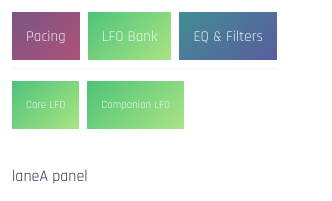
it: SectionTabs › the sub-tab row › leaving the section unmounts its sub row with it
Press the mouse on the tab "Pacing" at (46, 36), box x1=12 y1=12 x2=80 y2=60
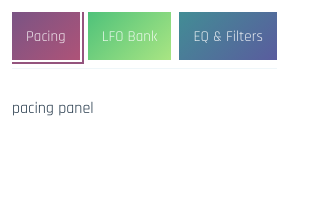
Expected: the text "pacing panel" is shown, x1=12 y1=98 x2=94 y2=119
